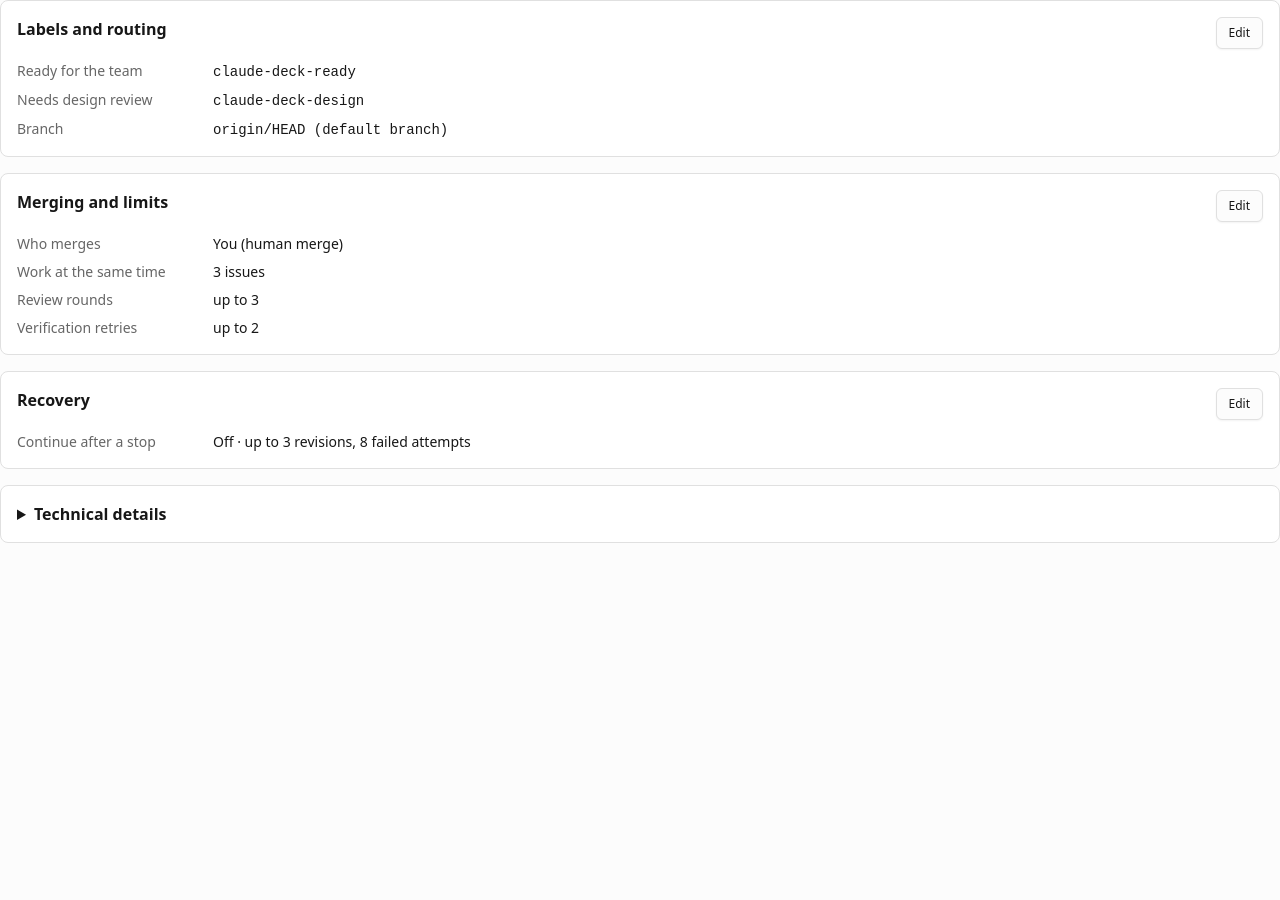
it: RepositorySettings › defines recovery limits and phase and status badges
Step 1. Click the button with aria-label "Edit recovery policy for example/project" → x=1239, y=404, box [1216,388,1263,420]
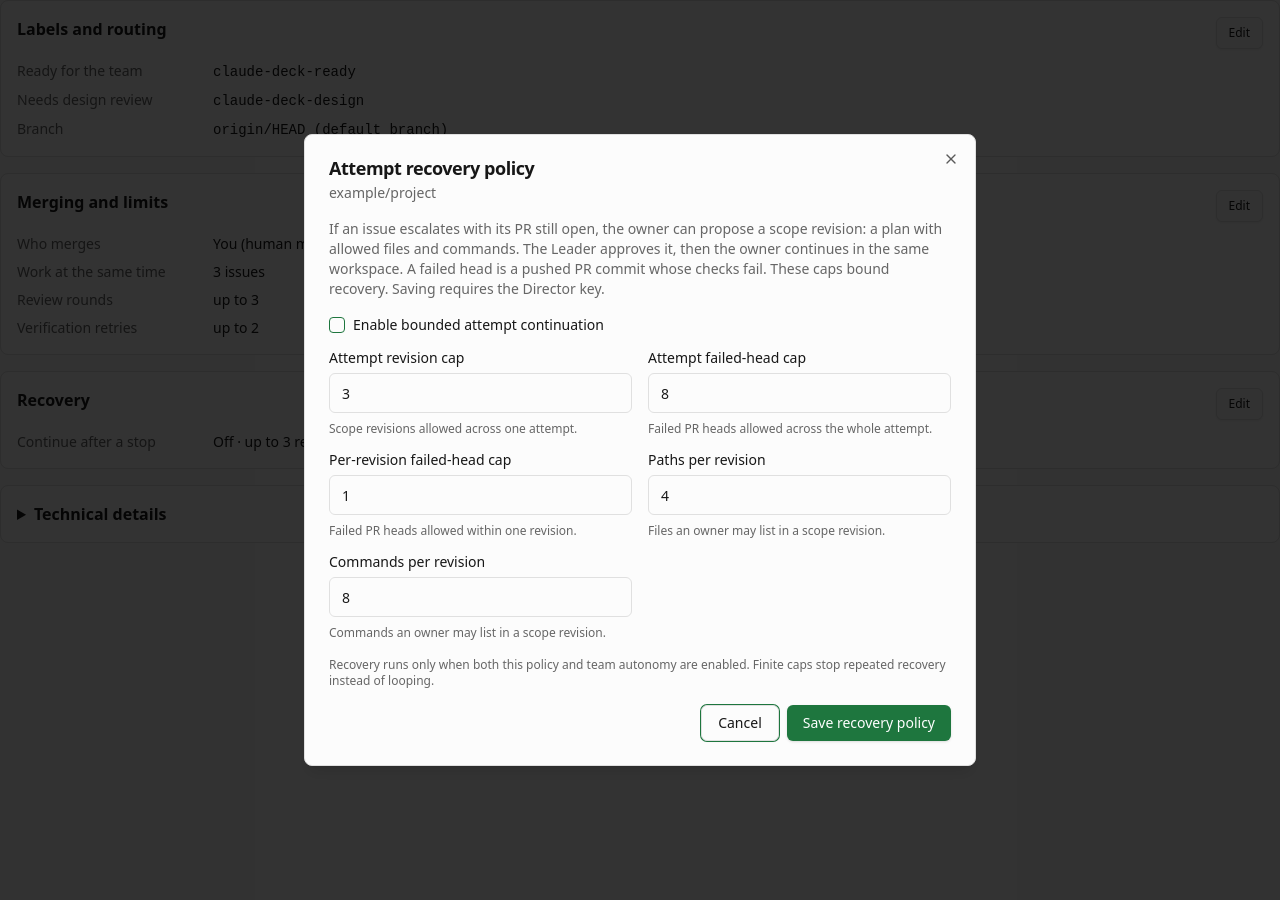
Expected: the text "Scope revisions allowed across one attempt." is shown, [329,420,577,437]
Expected: the text "Saving requires the Director key." is shown, [329,219,942,298]
